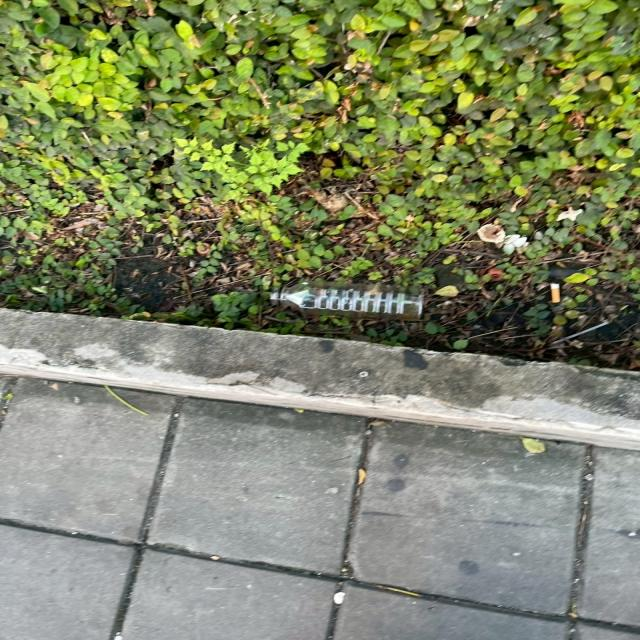plastic bottle: (271, 275, 433, 326)
